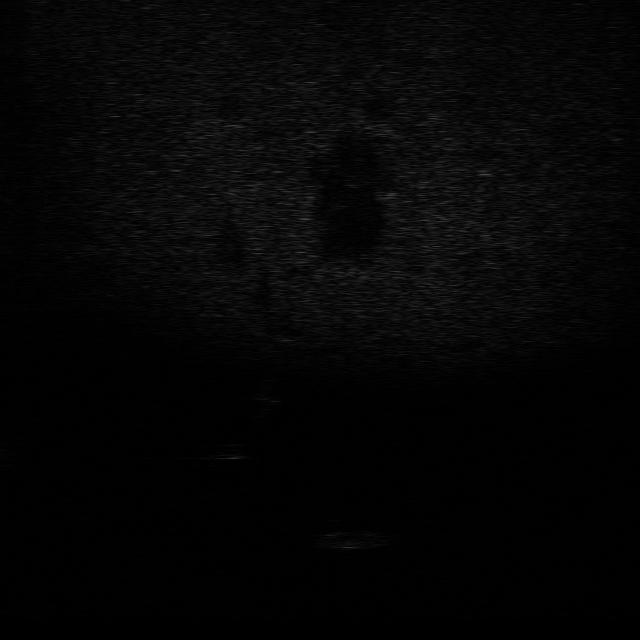ball: (200, 435, 250, 463)
circle cage: (312, 526, 390, 554)
human body: (244, 367, 288, 422)
